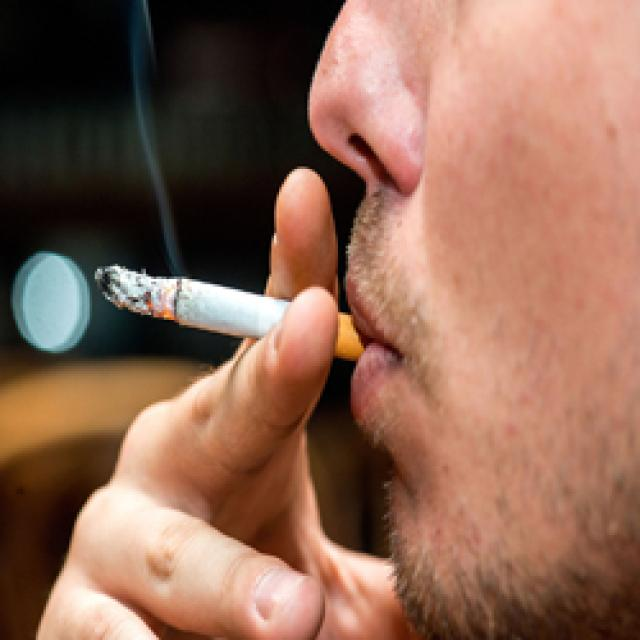Smooking: (84, 241, 353, 371)
